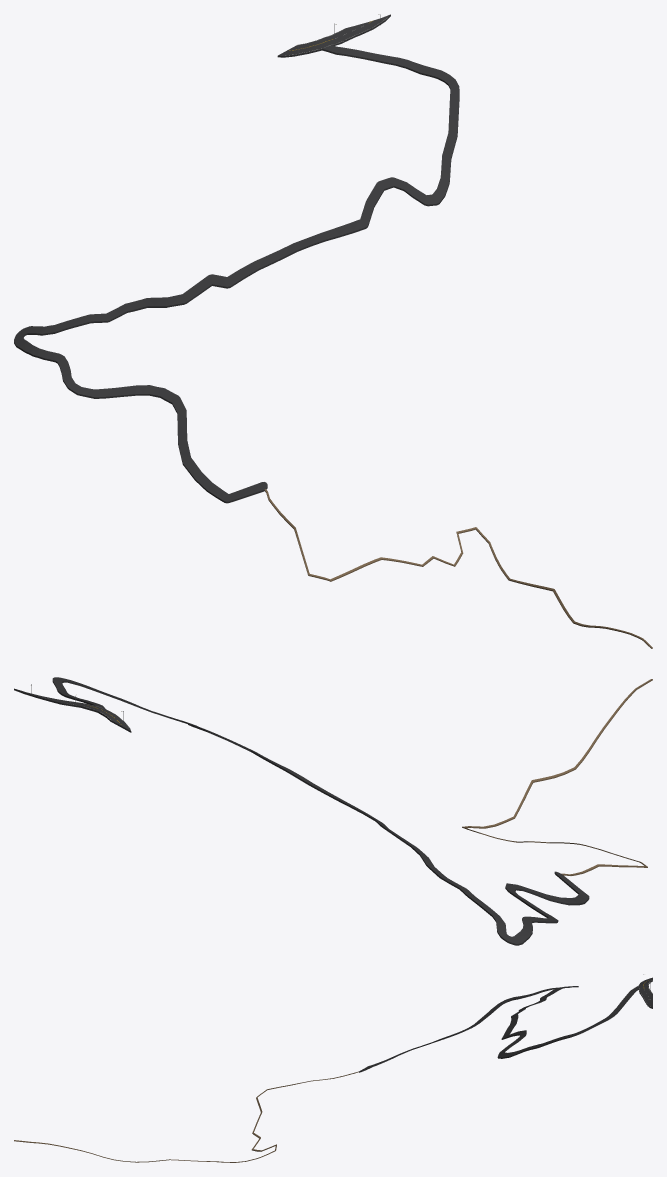
Rendered from 16-54707-29745.ddfc6ff7.glb.
The picture shows the model from 3 angles, top to bottom: view 1: azimuth 30°, elevation 25°; view 2: azimuth 150°, elevation 25°; view 3: azimuth 270°, elevation 25°; orthographic projection. The views are drawn at different scales.
Bounding box in the file's own units: 342 × 225 × 583.
